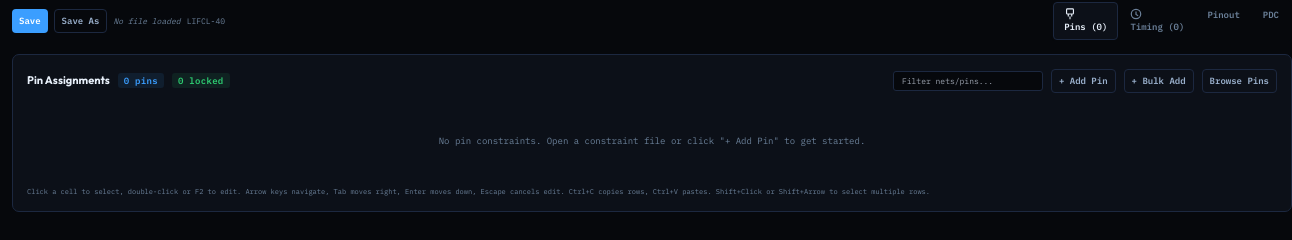
it: ConstraintEditor › validates that pin location is required when net is filled
Click the button "+ Add Pin" at (1083,80), box x1=1051 y1=68 x2=1116 y2=92
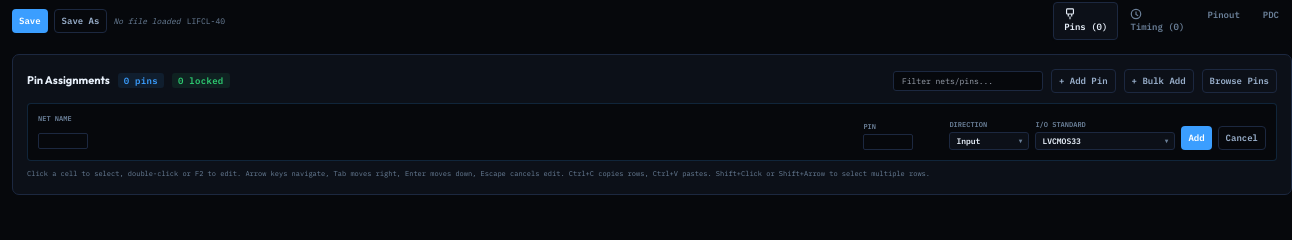
Note: inputs[0] is the search filter, inputs[1] is the net name in the add form
Type "clk" into the field below "NET NAME" at (63,141), box x1=38 y1=133 x2=88 y2=149
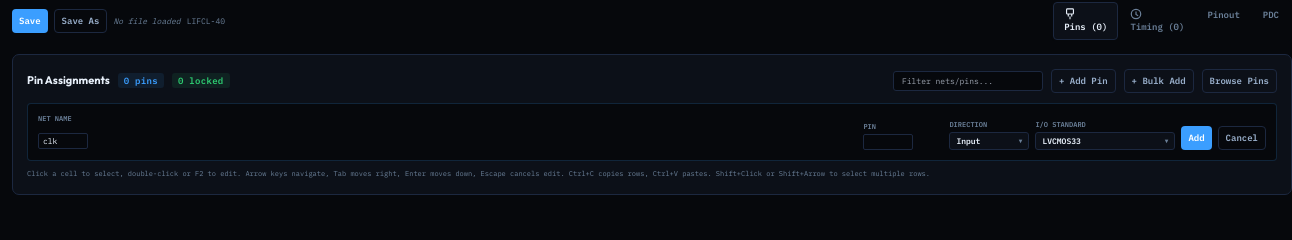
Click the button "Add" at (1196,138), box x1=1181 y1=126 x2=1212 y2=150
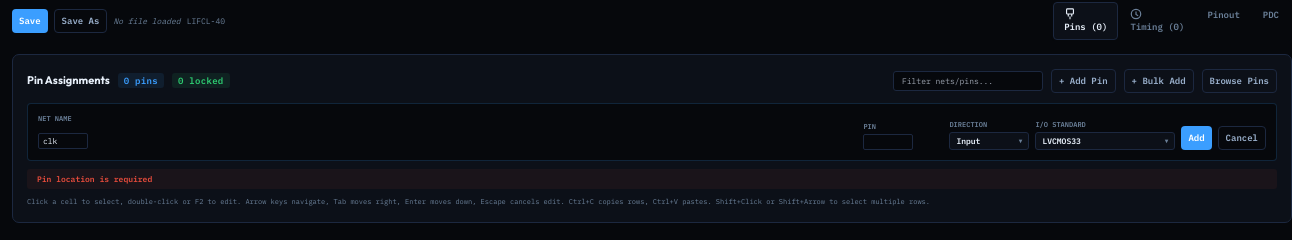
Now the text "Pin location is required" is shown, box x1=27 y1=169 x2=1277 y2=189
